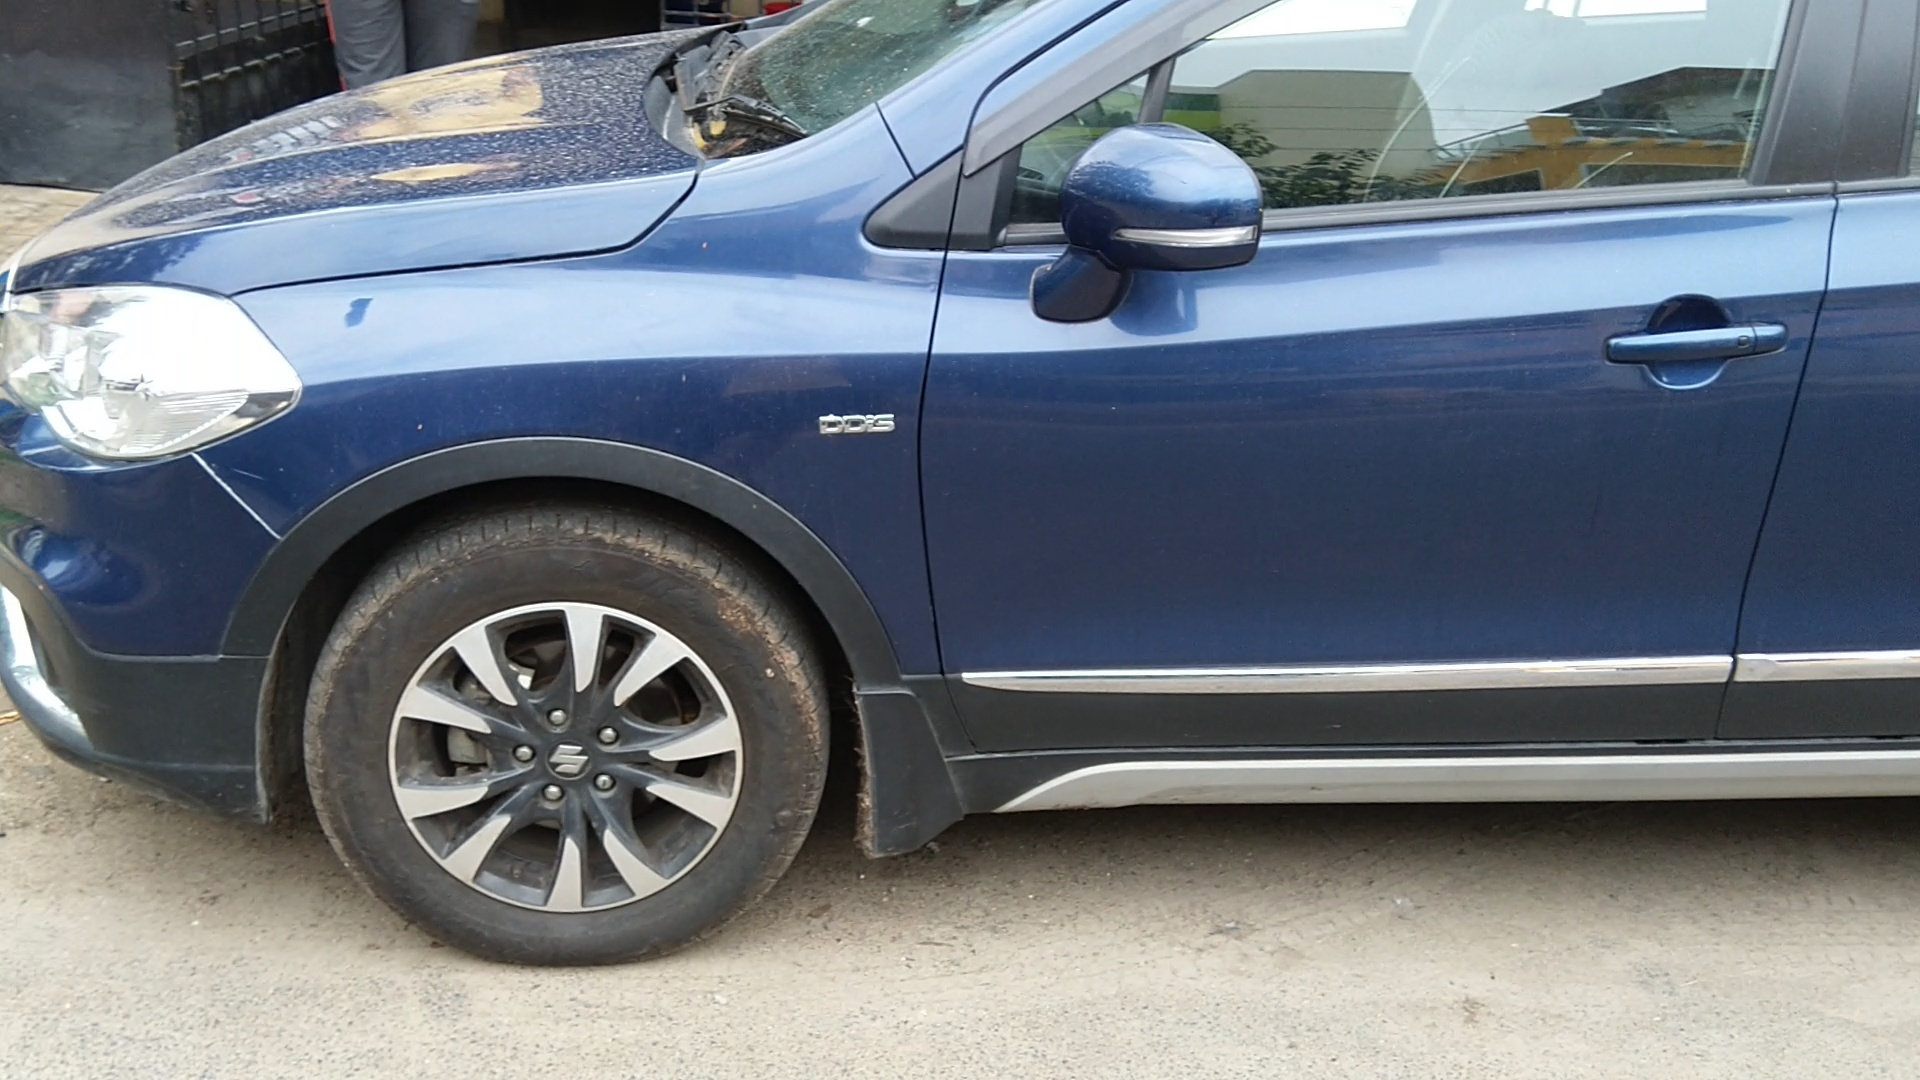alloy_wheel: (314, 513, 841, 969)
headlamp: (3, 255, 323, 484)
ovr_mirror: (1026, 119, 1282, 338)
